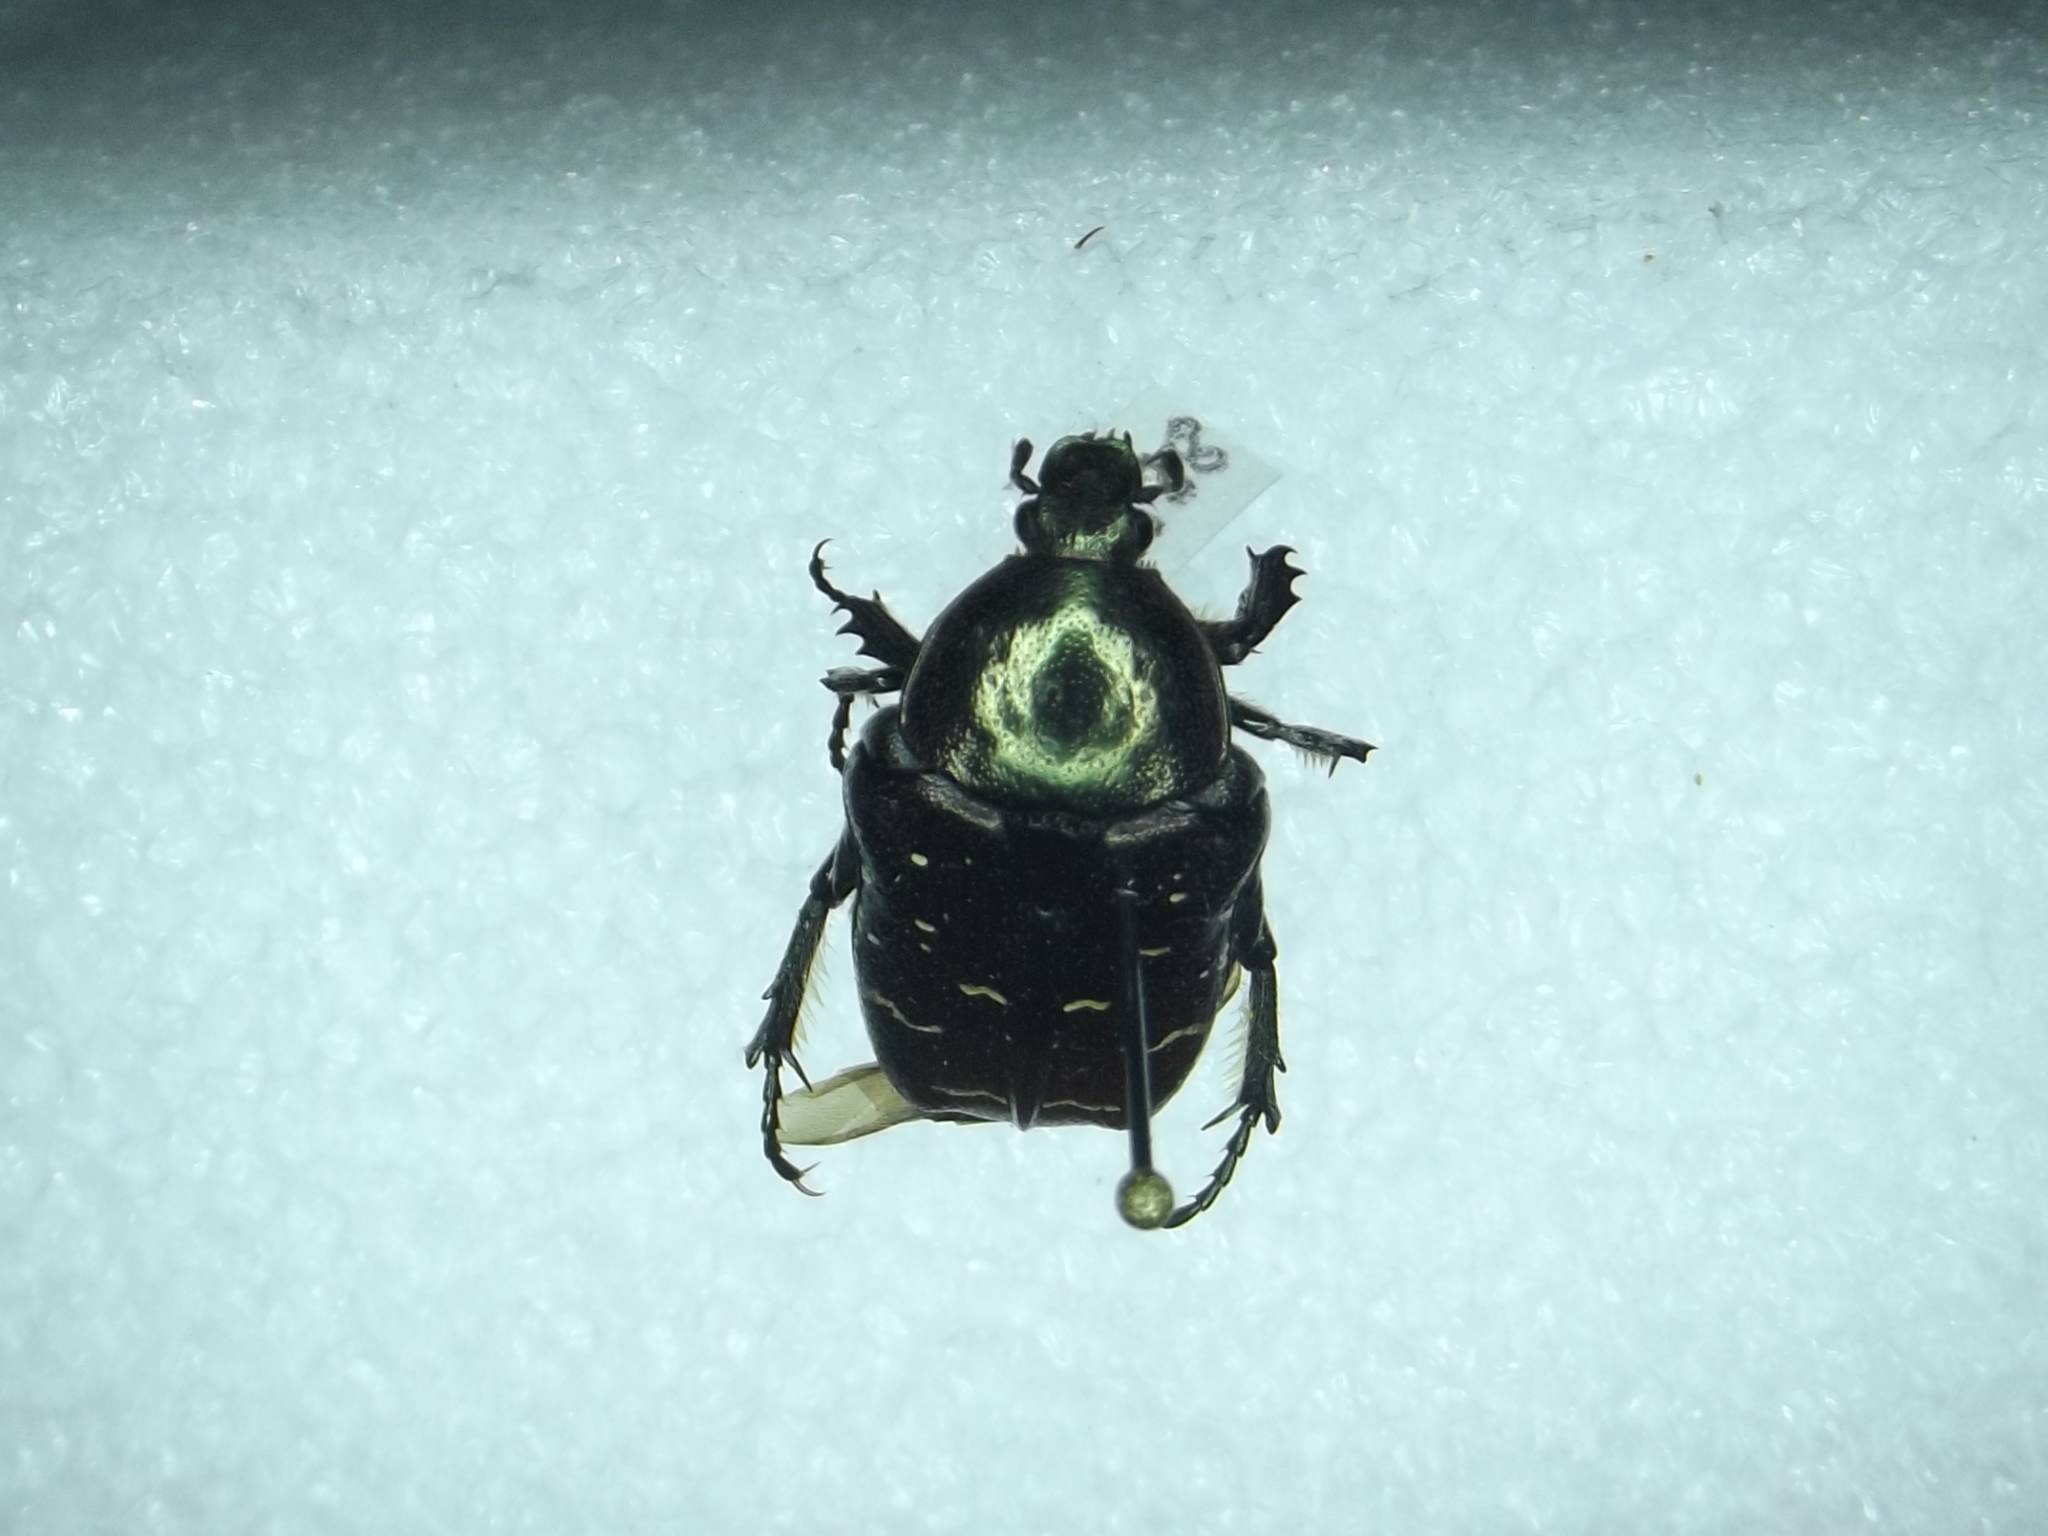Cetonia_kemali: (714, 418, 1388, 1249)
